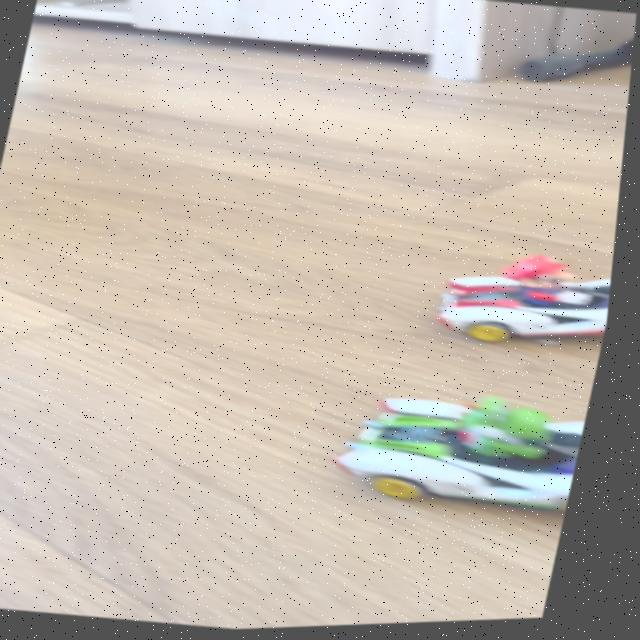mario: (422, 240, 620, 360)
yoshi: (321, 370, 601, 535)
